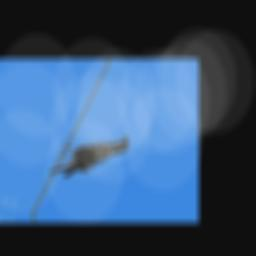Crow: (49, 130, 132, 182)
